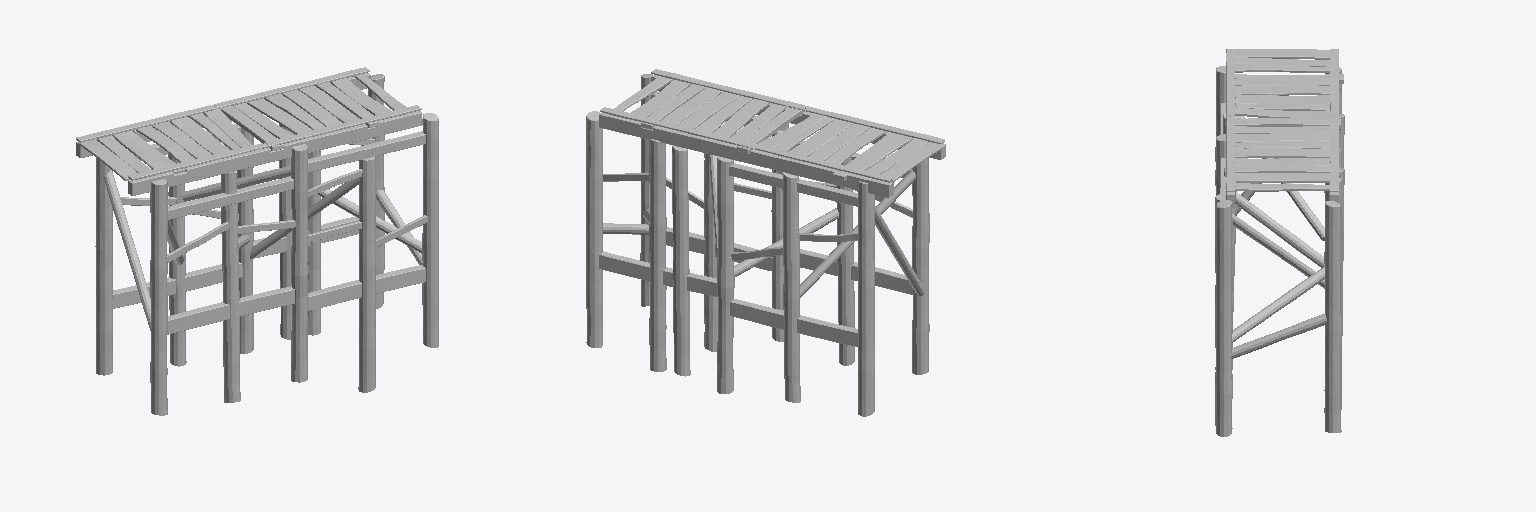
The model's file is msh_docks_01.obj.
3 renders of one model, left to right at view 1: azimuth 30°, elevation 25°; view 2: azimuth 150°, elevation 25°; view 3: azimuth 270°, elevation 25°, orthographic.
Bounding box in the file's own units: 6.9 × 5.72 × 2.52.